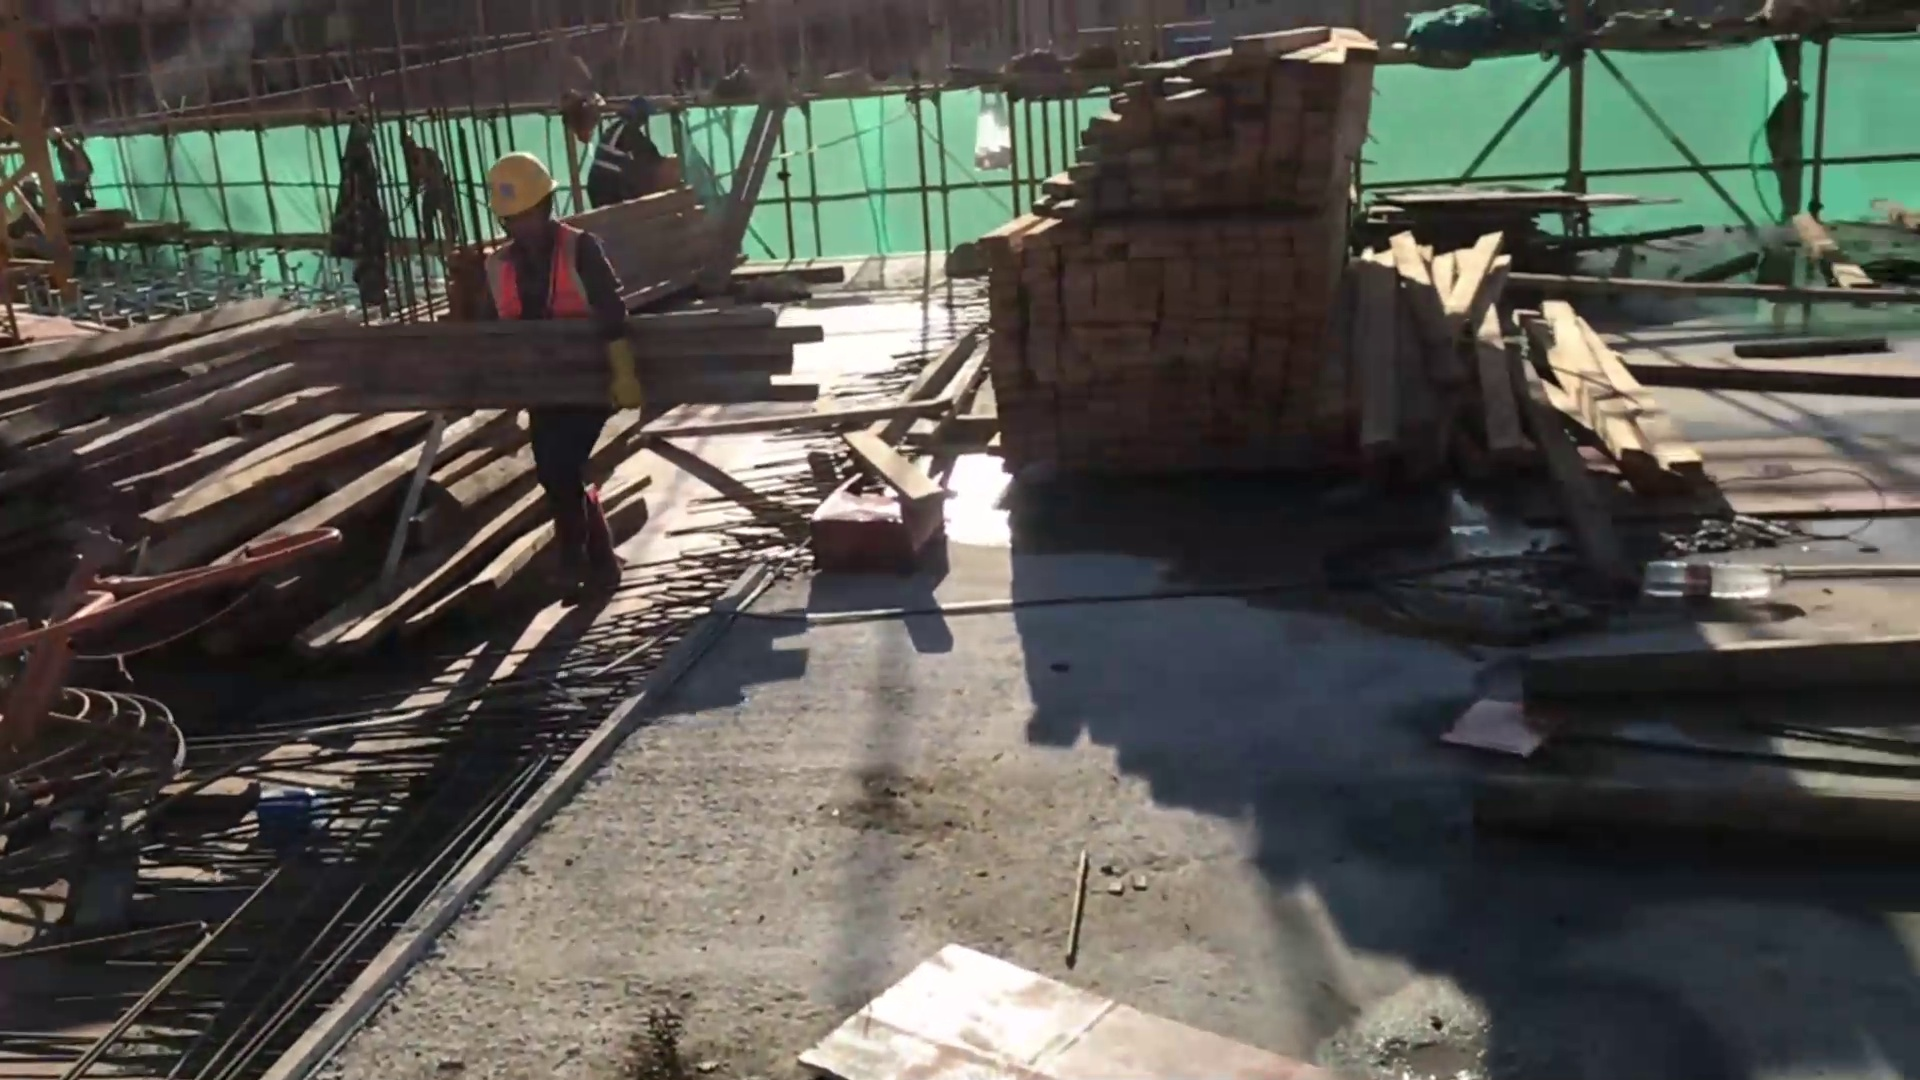helmet: (482, 149, 559, 218)
person: (451, 160, 648, 600), (590, 99, 656, 241)
vest: (487, 240, 623, 330)
